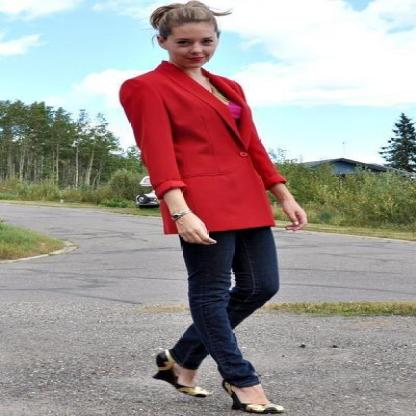jacket: (120, 61, 284, 242)
pants: (172, 226, 278, 390)
shoe: (162, 358, 265, 404)
